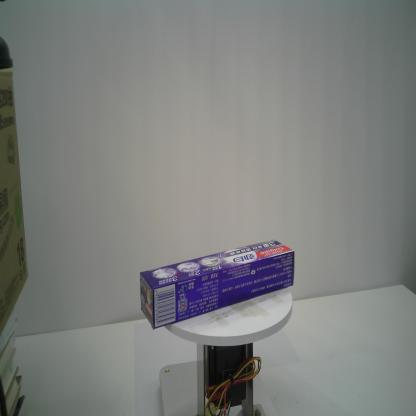Personal Hygiene: (139, 238, 295, 332)
